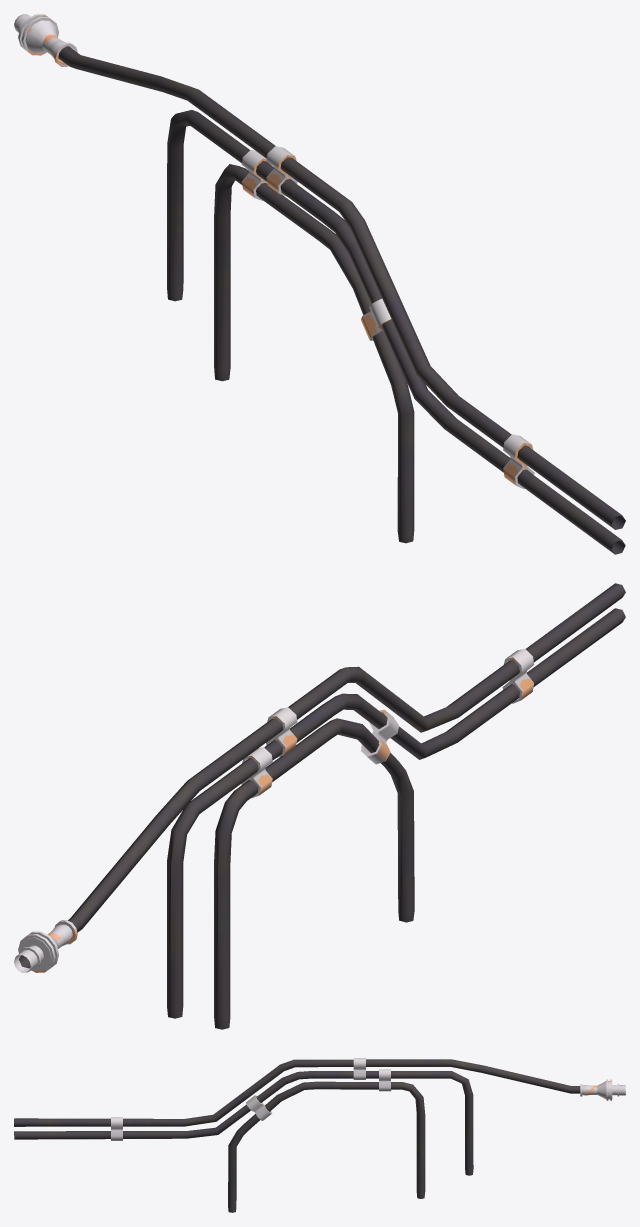
File: Pipes_1.fbx
The picture shows the model from 3 angles, top to bottom: view 1: azimuth 30°, elevation 25°; view 2: azimuth 150°, elevation 25°; view 3: azimuth 270°, elevation 25°; orthographic projection. The views are drawn at different scales.
Parts seen in each view (by area): view 1: Pipes_1; view 2: Pipes_1; view 3: Pipes_1.
Part boxes in pixels (x1,y1,x2,y2): Pipes_1: (14,14,625,554); Pipes_1: (14,583,625,1029); Pipes_1: (14,1058,625,1212).
Size of the model in its own units: 11.11 by 88.27 by 320.
